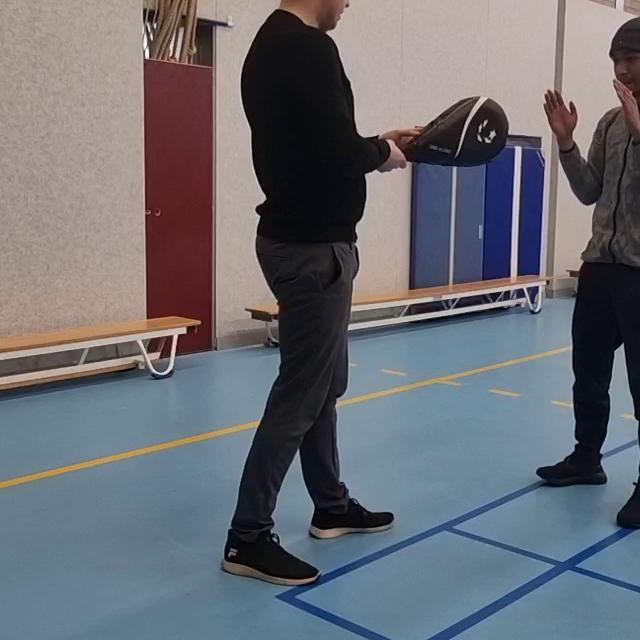paddle: (392, 93, 513, 171)
